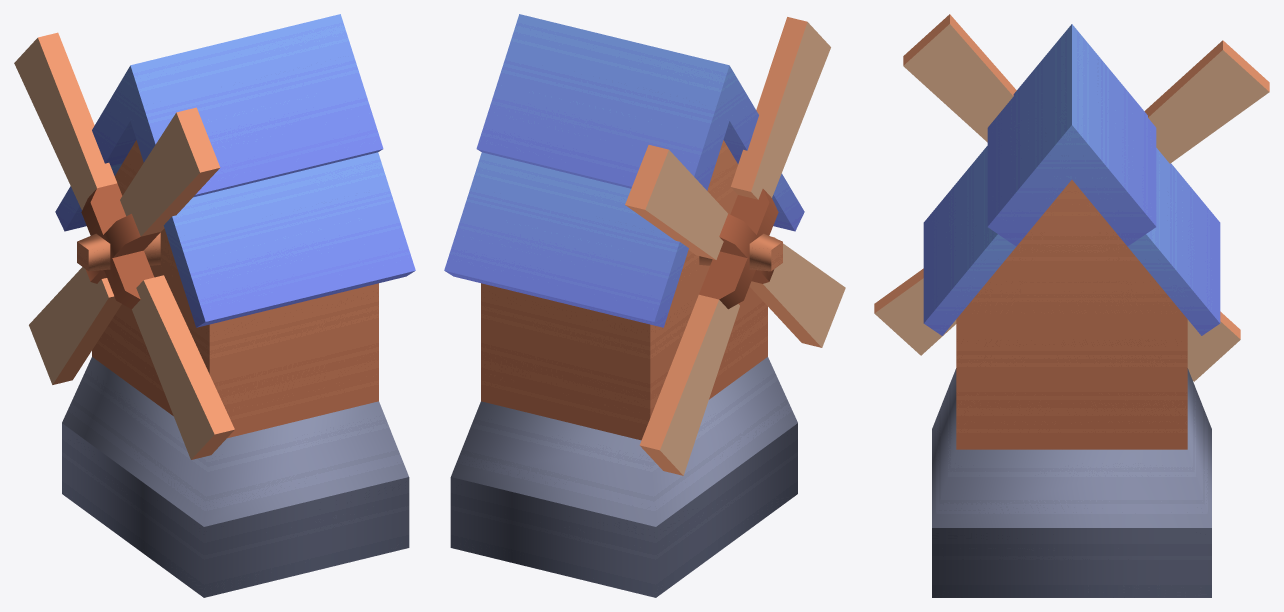
The model's file is unit-mill.glb.
3 renders of one model, left to right at view 1: azimuth 30°, elevation 25°; view 2: azimuth 150°, elevation 25°; view 3: azimuth 270°, elevation 25°, orthographic.
Parts seen in each view (by area): view 1: unit-mill, rotate-x; view 2: unit-mill, rotate-x; view 3: unit-mill, rotate-x.
Part boxes in pixels (<box>): unit-mill: <box>55,14,415,597</box>; rotate-x: <box>14,32,234,459</box>; unit-mill: <box>444,14,804,597</box>; rotate-x: <box>625,17,845,475</box>; unit-mill: <box>923,24,1220,597</box>; rotate-x: <box>874,14,1269,381</box>.
Size of the model in its own units: 0.38 by 0.6811 by 0.5121.
Materials: 1 (1 with a texture image).
